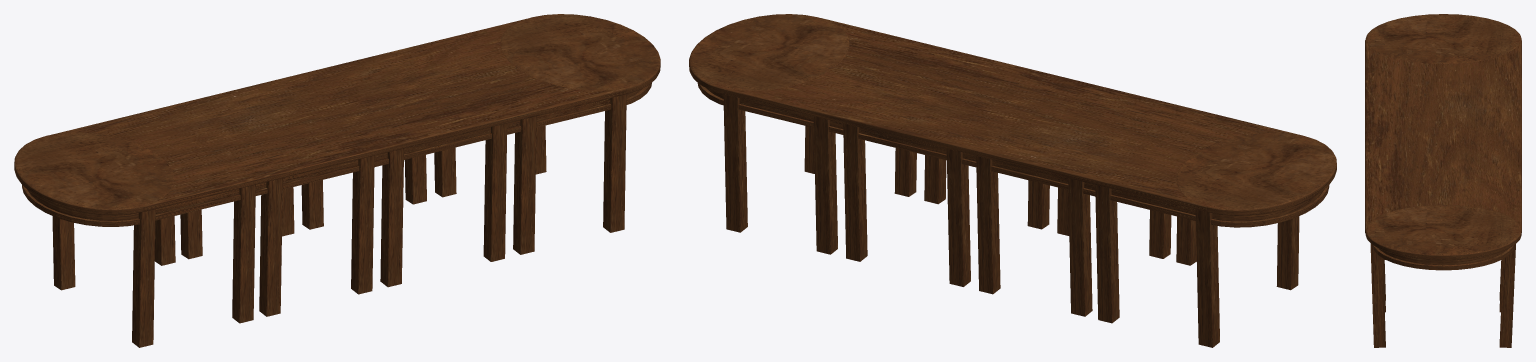
File: meeting_table.glb
3 views of the same model, side by side, from view 1: azimuth 30°, elevation 25°; view 2: azimuth 150°, elevation 25°; view 3: azimuth 270°, elevation 25° (orthographic). The views are drawn at different scales.
Parts seen in each view (by area): view 1: Cylinder.002, Cylinder.003, Cylinder.001, Cube.001, Cube.013, Cube.006, Cube.004, Cube.010, Cube.002, Cube.008, Cube.015, Cube (+7 smaller); view 2: Cylinder.002, Cylinder.003, Cylinder.001, Cube.003, Cube.005, Cube.007, Cube.014, Cube, Cube.011, Cube.009, Cube.012, Cube.001 (+6 smaller); view 3: Cylinder.002, Cube.010, Cube.011, Cylinder.003, Cylinder.001.
Part boxes in pixels (x1,y1,x2,y2): Cylinder.002: (14,14,660,215); Cylinder.003: (22,83,651,226); Cylinder.001: (27,88,642,220); Cube.001: (132,209,155,347); Cube.013: (513,116,536,254); Cube.006: (351,155,374,294); Cube.004: (259,178,282,316); Cube.010: (603,94,626,232); Cube.002: (232,184,255,323); Cube.008: (380,148,403,287); Cube.015: (483,123,507,261); Cube: (52,216,75,290); Cylinder.002: (689,14,1336,215); Cylinder.003: (697,83,1329,227); Cylinder.001: (706,88,1323,221); Cube.003: (1095,185,1119,323); Cube.005: (1068,178,1092,316); Cube.007: (976,156,1000,294); Cube.014: (843,123,867,261); Cube: (1195,209,1219,347); Cube.011: (723,94,747,232); Cube.009: (946,148,970,286); Cube.012: (813,116,837,254); Cube.001: (1276,216,1299,290); Cylinder.002: (1365,14,1521,259); Cube.010: (1370,243,1385,347); Cube.011: (1499,244,1515,347); Cylinder.003: (1373,245,1513,270); Cylinder.001: (1379,248,1508,265).
Size of the model in its own units: 7.15 by 1.62 by 1.96.
18 materials, 18 textured.
